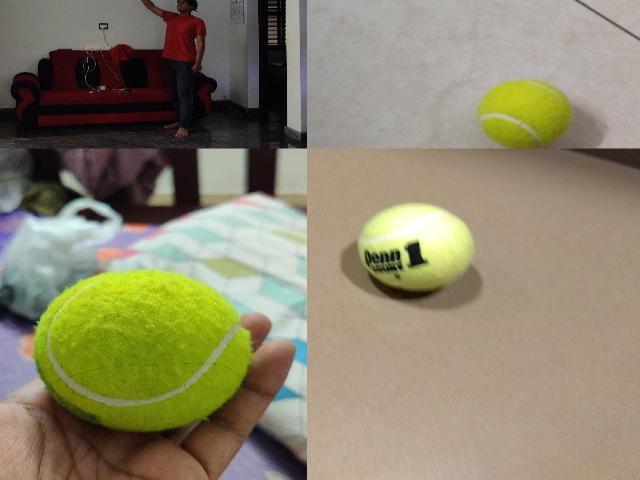tennis-ball: (32, 269, 254, 435), (356, 203, 476, 292), (477, 78, 574, 148)
